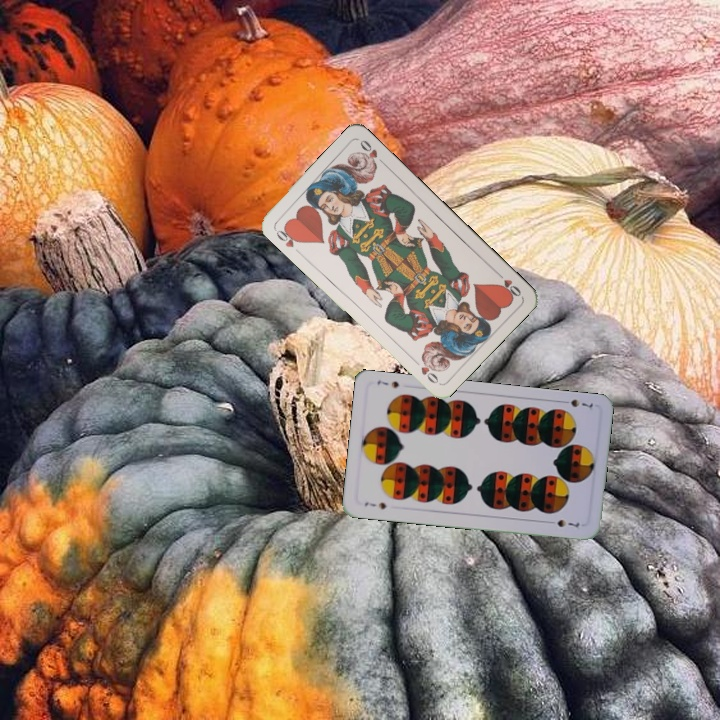HO: (491, 267, 524, 300), (270, 222, 304, 250)
S7: (557, 395, 596, 410), (361, 498, 389, 512)
